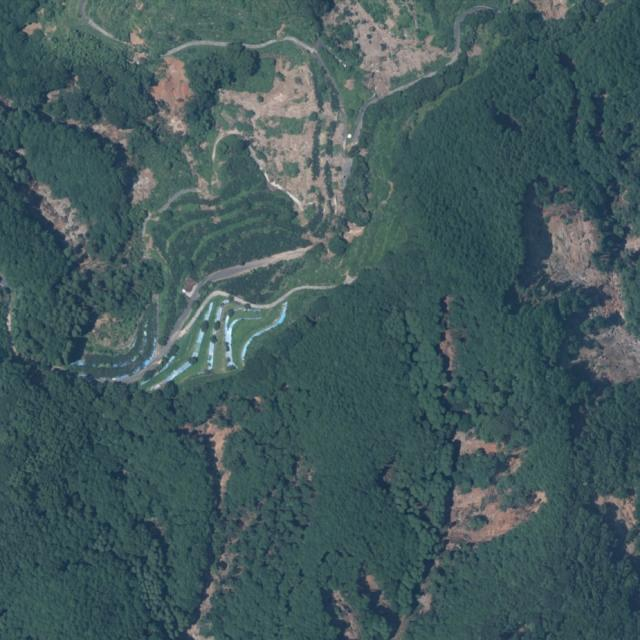landslide: (219, 55, 347, 211), (543, 204, 640, 384), (324, 0, 446, 96), (447, 487, 547, 550), (184, 420, 240, 498), (30, 182, 87, 247), (151, 56, 194, 134), (597, 496, 638, 531), (455, 432, 500, 456), (531, 0, 569, 19)
